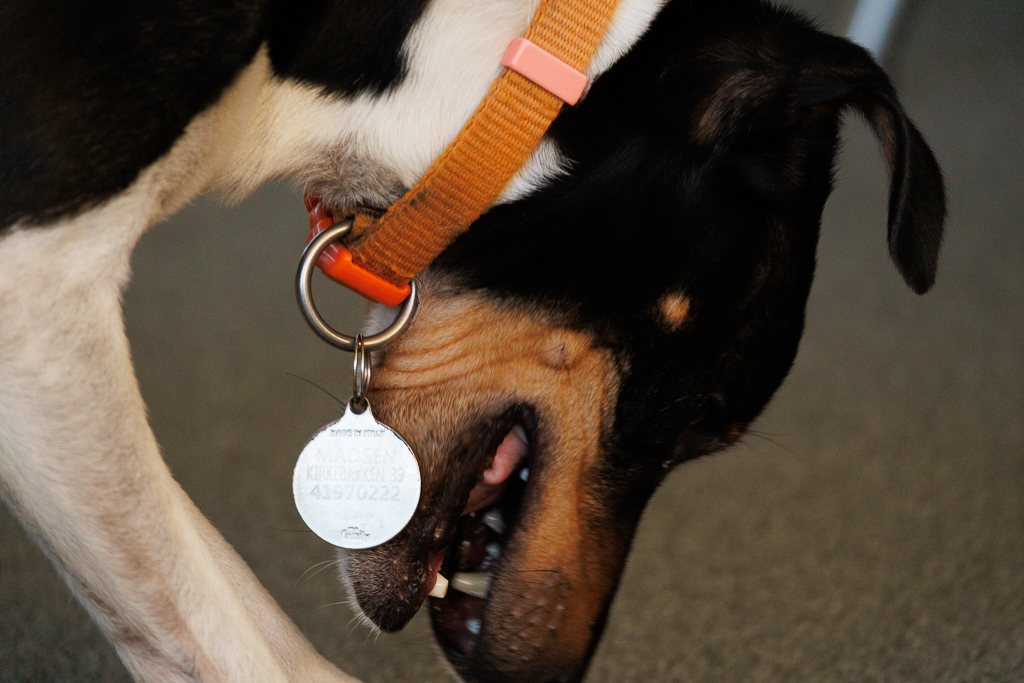Dog: (0, 0, 951, 683)
